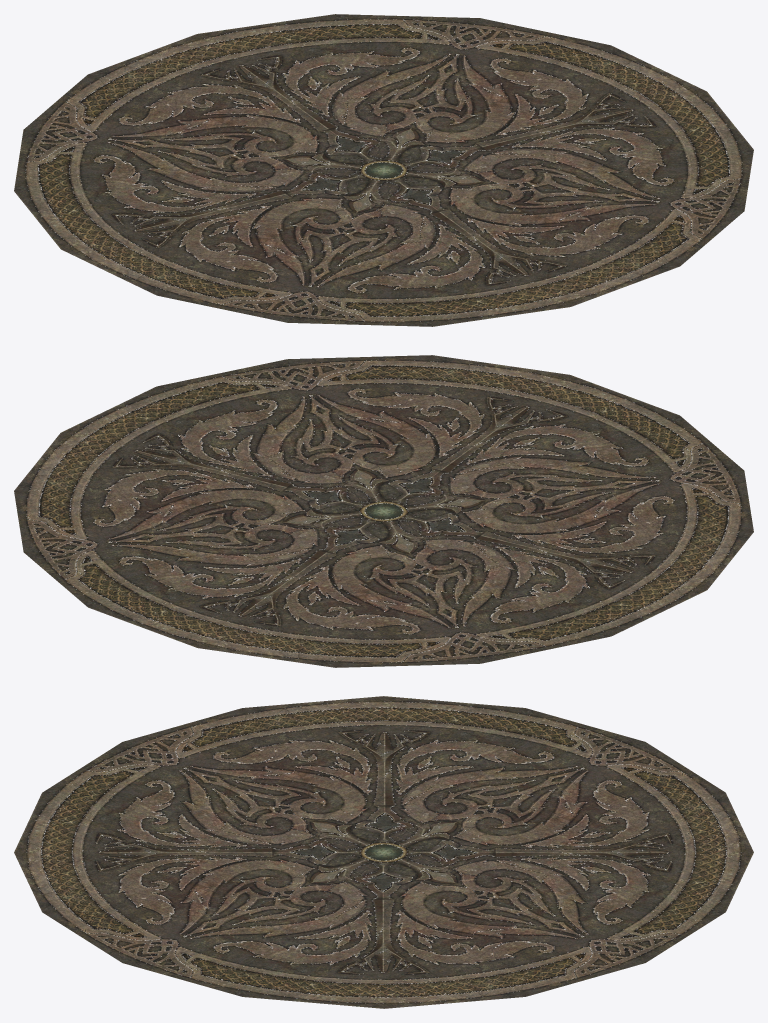
Rendered from miniboss_01_b_coll.glb.
3 renders of one model, top to bottom at view 1: azimuth 30°, elevation 25°; view 2: azimuth 150°, elevation 25°; view 3: azimuth 270°, elevation 25°, orthographic.
Parts seen in each view (by area): view 1: miniboss_base02; view 2: miniboss_base02; view 3: miniboss_base02.
Part boxes in pixels (x1,y1,x2,y2): miniboss_base02: (14, 14, 753, 326); miniboss_base02: (14, 355, 753, 667); miniboss_base02: (14, 696, 753, 1008).
Bounding box in the file's own units: 35.51 × 2.38e-07 × 35.51.
Materials: 1 (1 with a texture image).
